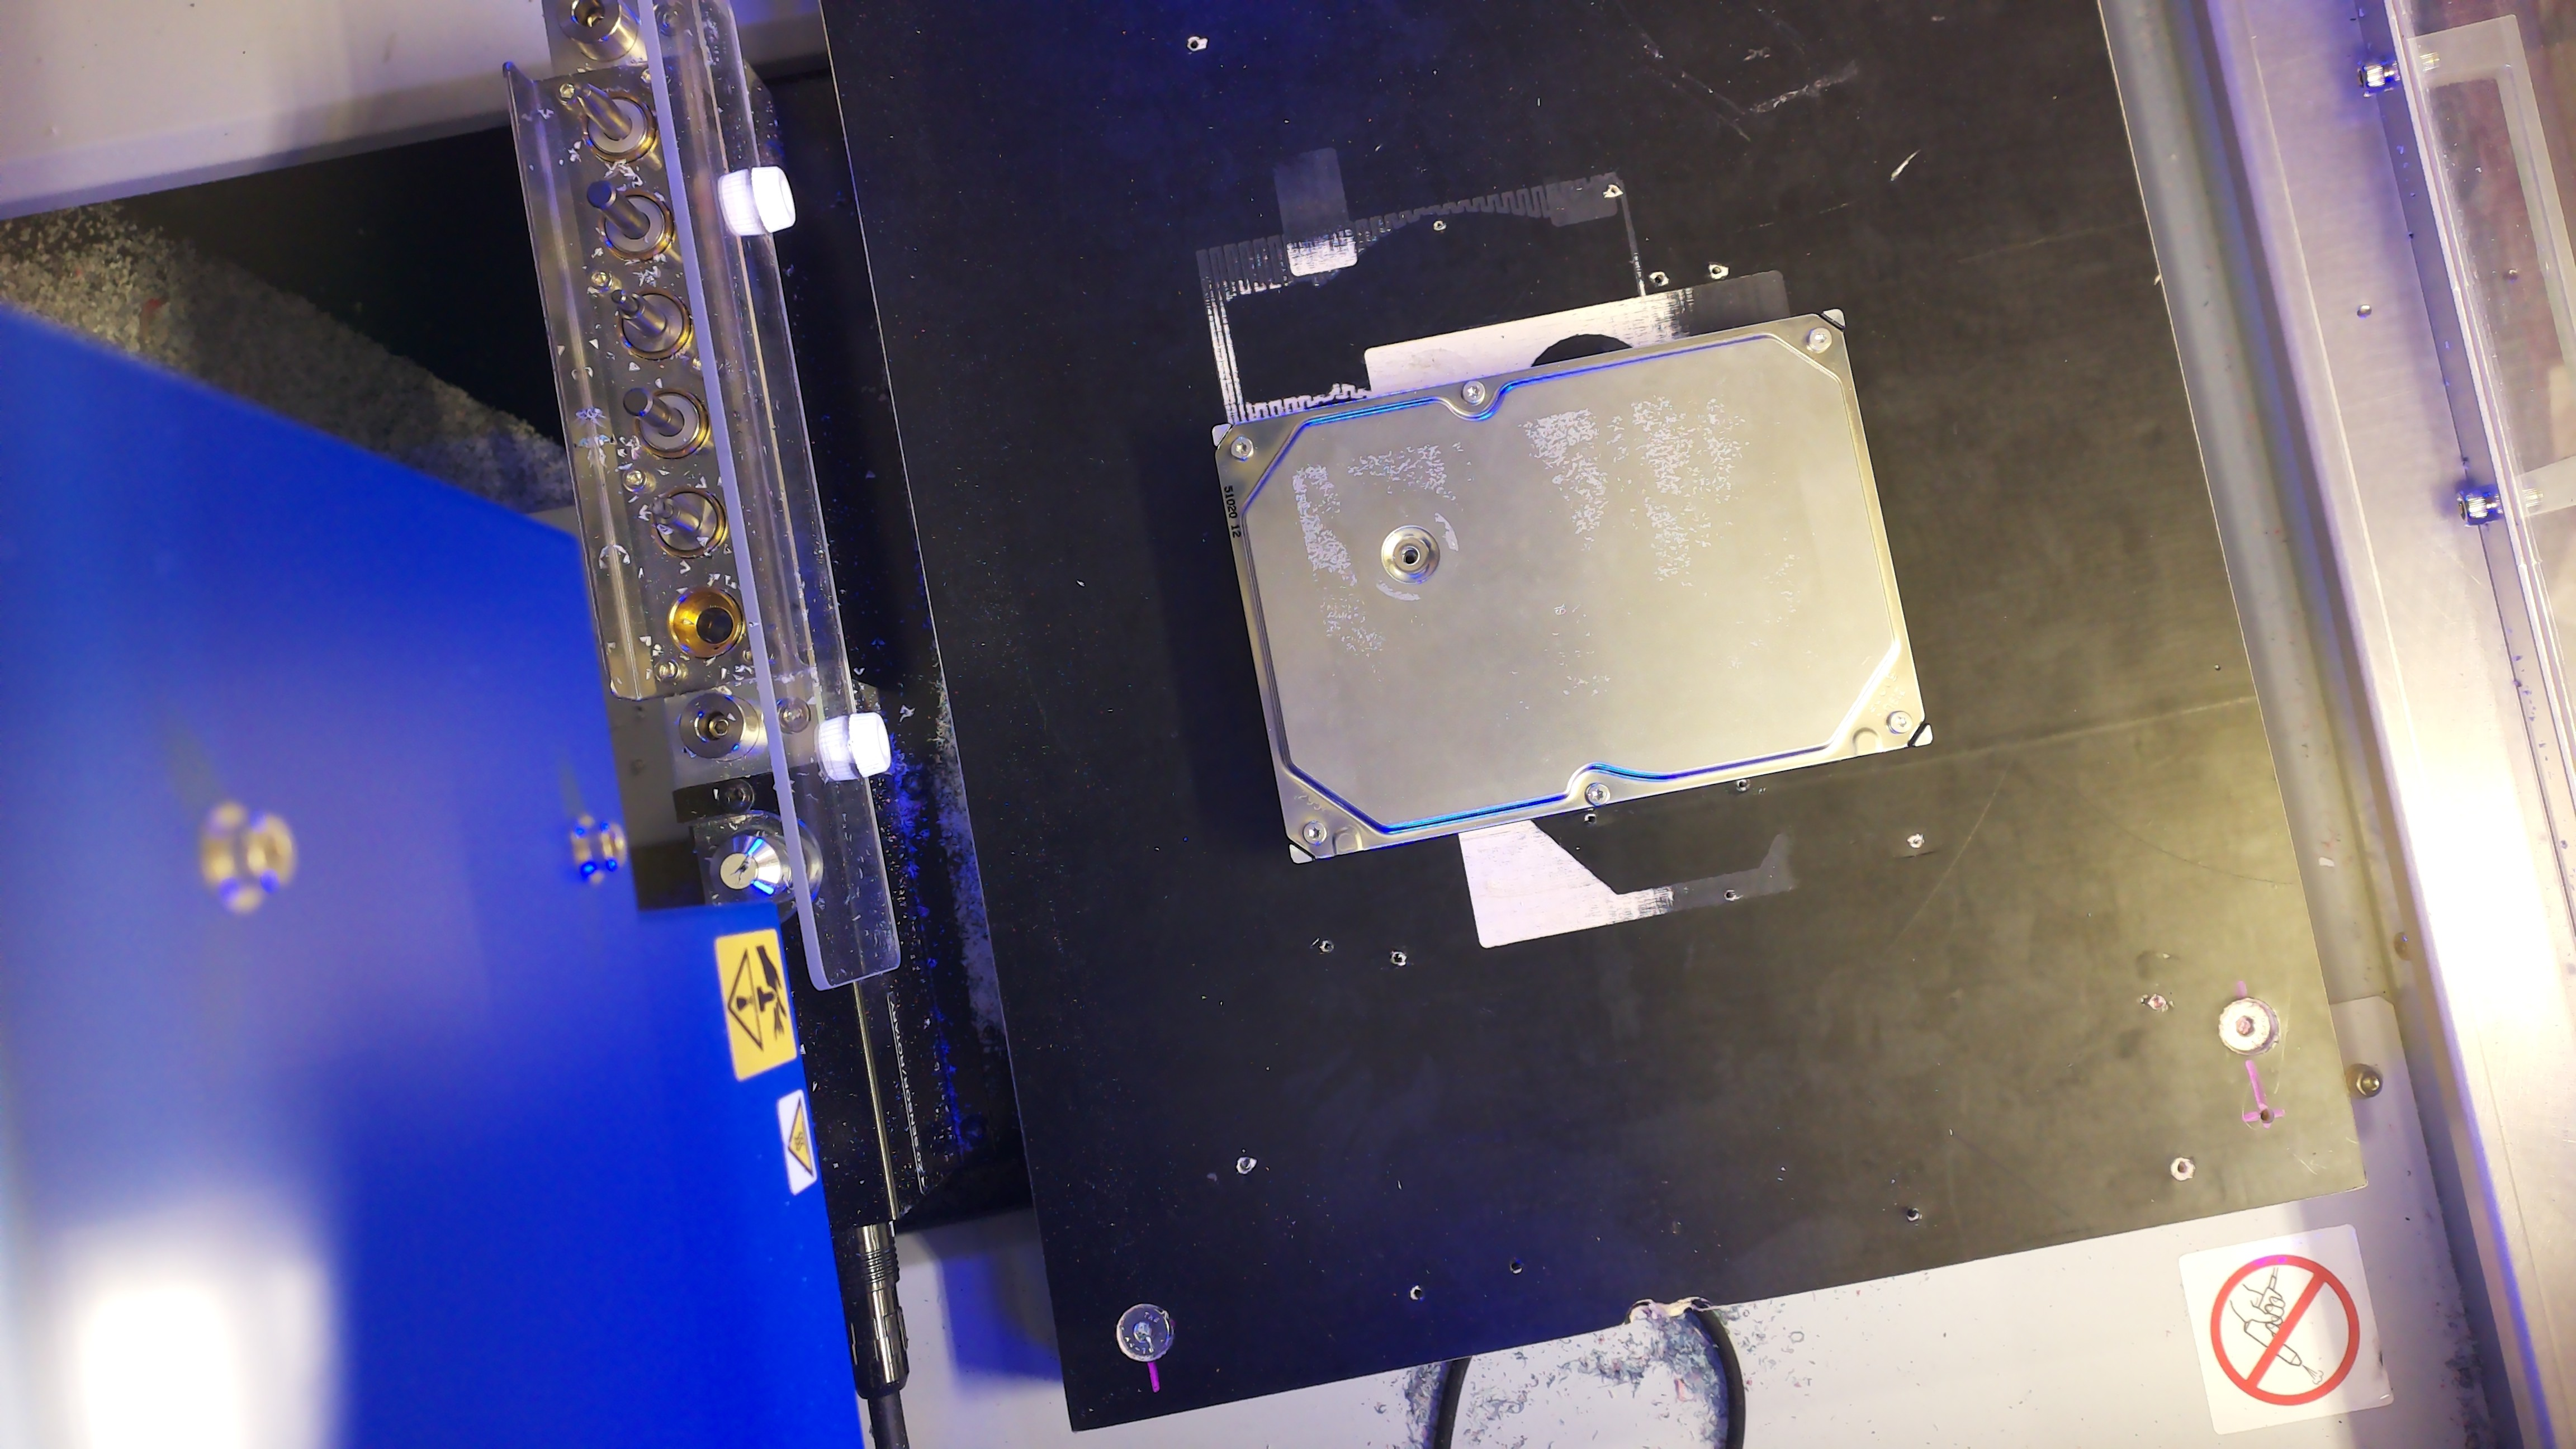Hole: (1399, 545, 1421, 566)
Screw: (1806, 326, 1833, 352), (1585, 782, 1612, 807), (1302, 821, 1327, 846), (1888, 709, 1913, 734), (1230, 435, 1254, 460), (1461, 380, 1484, 405)
